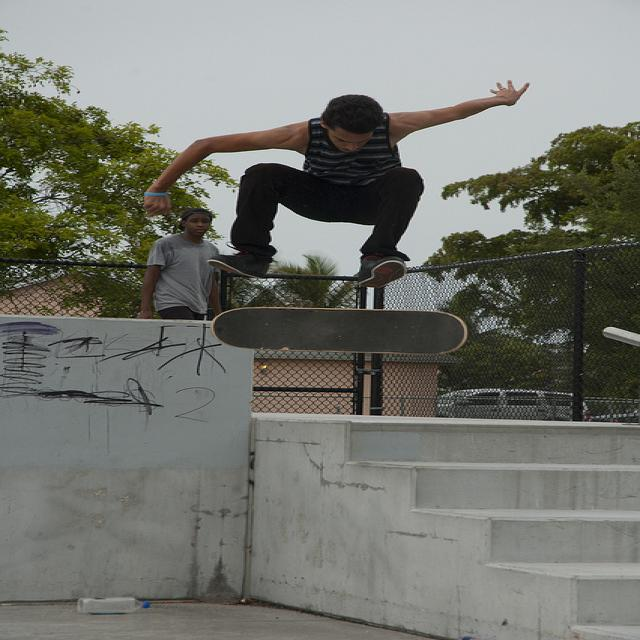Vehicle: (436, 388, 590, 422), (439, 389, 591, 421)
